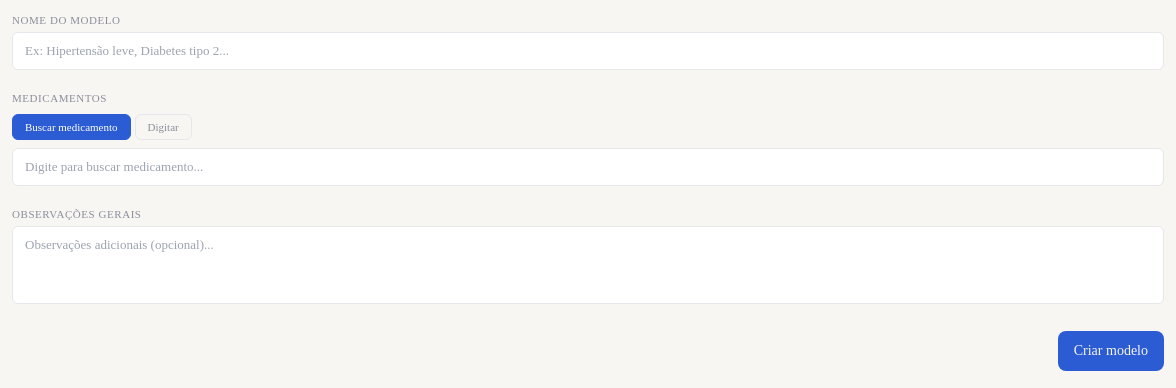
Scenario: PrescriptionTemplateForm (integration) › switches back to medication tab when clicking Buscar medicamento
Click the button with test id "prescription-template-form-tab-ingredient".
click(163, 127)  # box top-left (135, 114), bottom-right (192, 140)
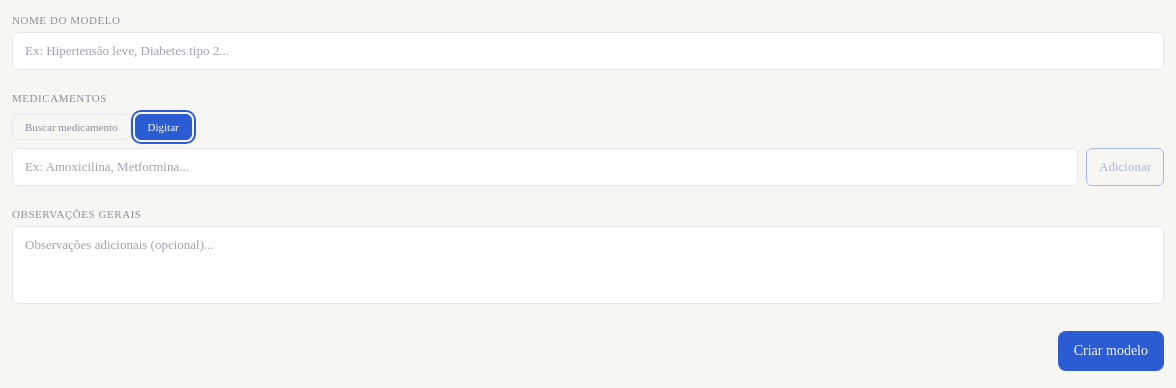
Click the button with test id "prescription-template-form-tab-medication".
click(71, 127)  # box top-left (12, 114), bottom-right (131, 140)
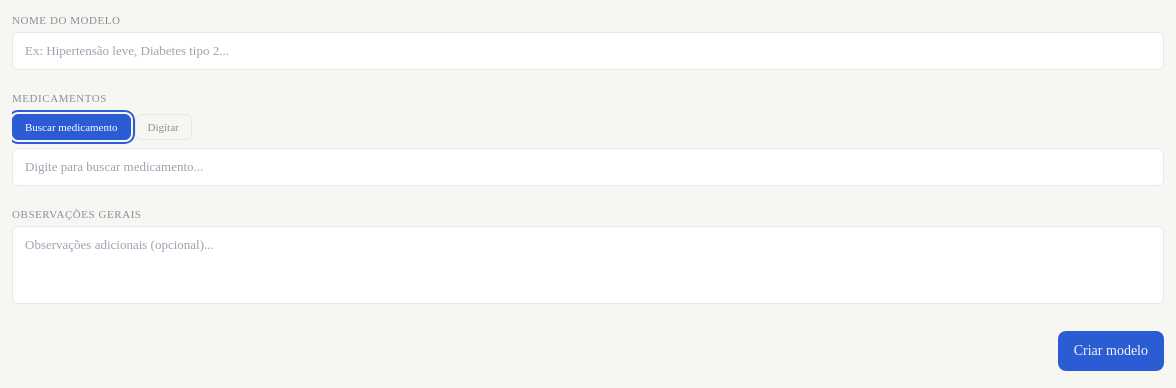
Result: the field with test id "prescription-template-form-search" is shown at top-left (12, 148), bottom-right (1164, 186)
Result: the field with test id "prescription-template-form-manual-input" is gone
